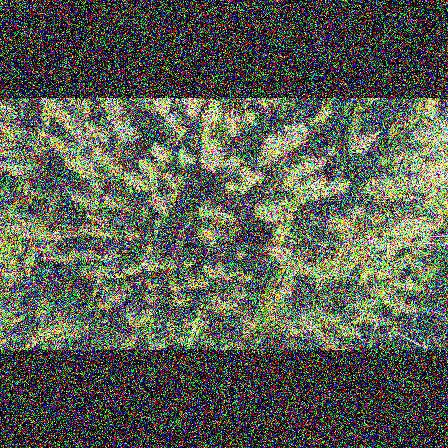Sick: (196, 223, 216, 242), (189, 273, 210, 290), (122, 169, 142, 186), (170, 293, 191, 309), (85, 177, 104, 191), (211, 228, 228, 242), (142, 292, 158, 305)
